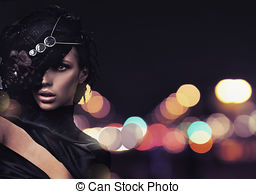face: (26, 27, 83, 129)
